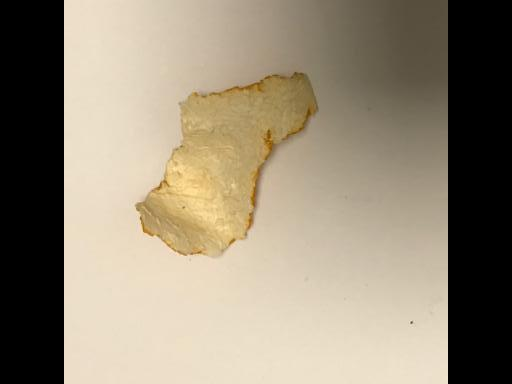trash: (133, 73, 318, 261)
